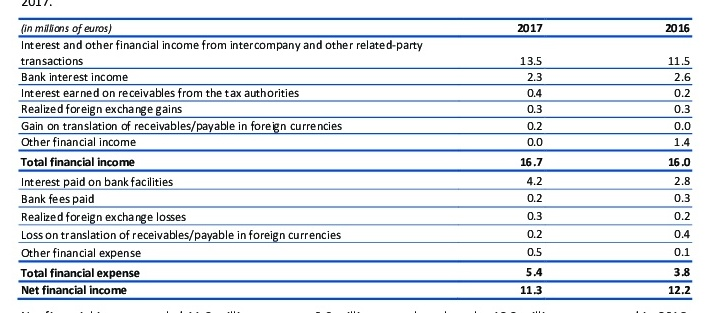table: (0, 0, 710, 313)
